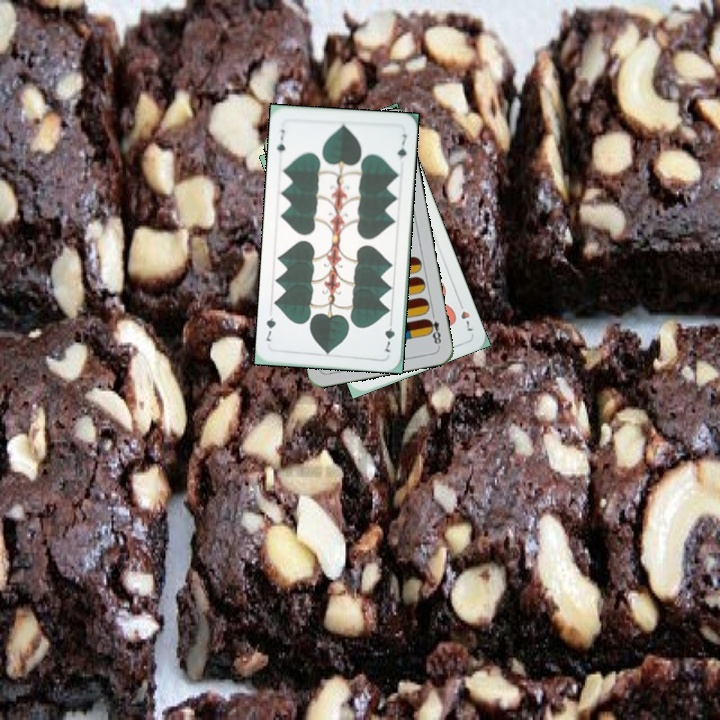E8: (423, 308, 444, 349)
G7: (381, 316, 397, 355), (273, 125, 287, 160)
H7: (454, 296, 476, 334)
